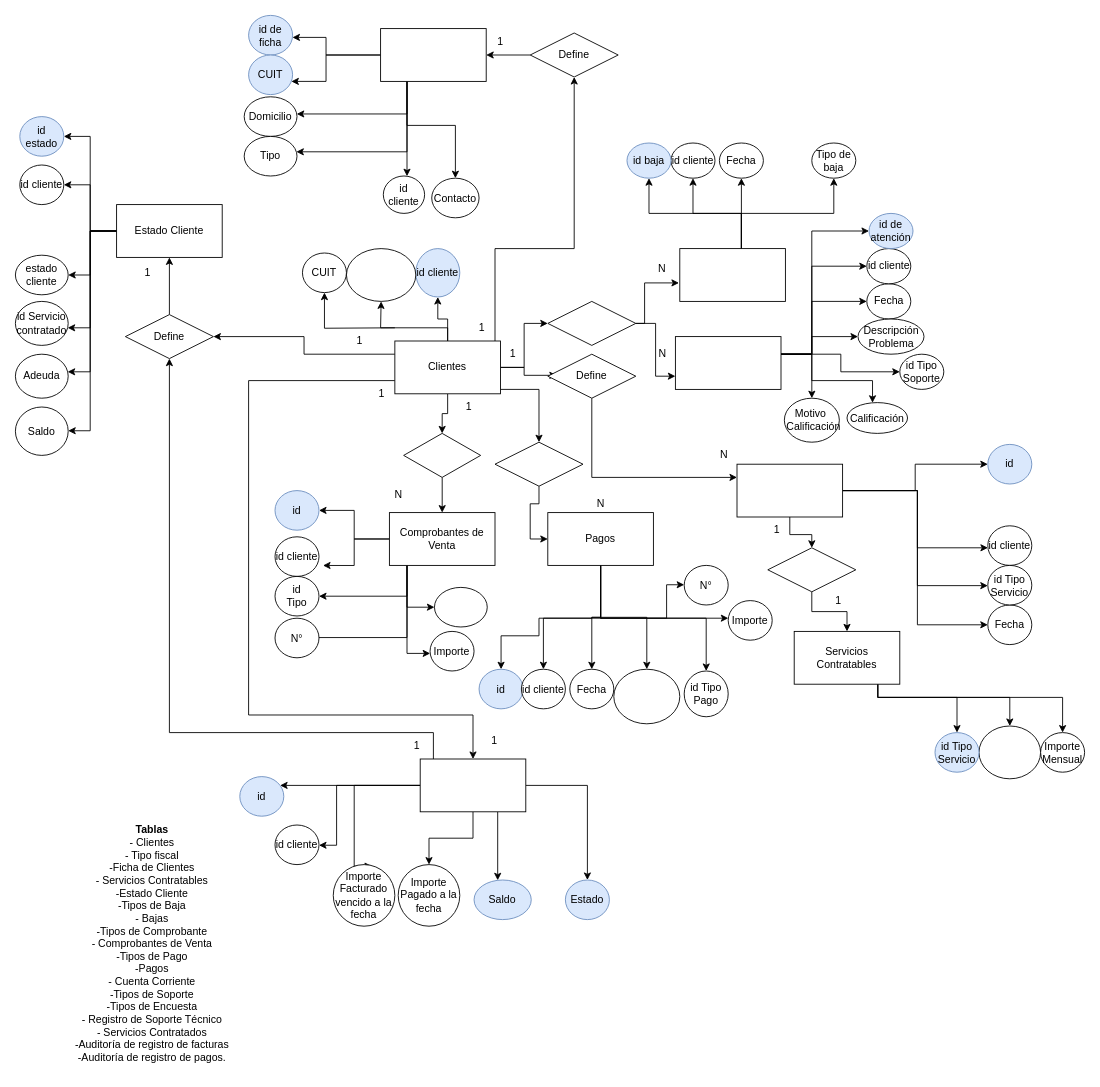
Some shapes in this 1100 by 1087 pixel diagram are drawn without their labels. Each missing label, with the box of its shape:
Acredita: (494, 441, 583, 486)
Bajas: (679, 248, 785, 301)
Cuenta Corriente: (419, 758, 526, 812)
Descripción del plan.: (978, 725, 1041, 779)
Fecha de Emisión: (434, 587, 487, 627)
Ficha de Clientes: (380, 28, 486, 81)
Genera: (403, 433, 481, 477)
id Tipo Comprobante: (613, 668, 680, 724)
Nombre / Denominación: (346, 248, 416, 301)
Registro de Servicios Contratados: (736, 463, 843, 517)
Registro de Soporte Técnico: (675, 336, 781, 389)
Selecciona: (767, 547, 856, 592)
Solicita: (547, 301, 636, 345)
